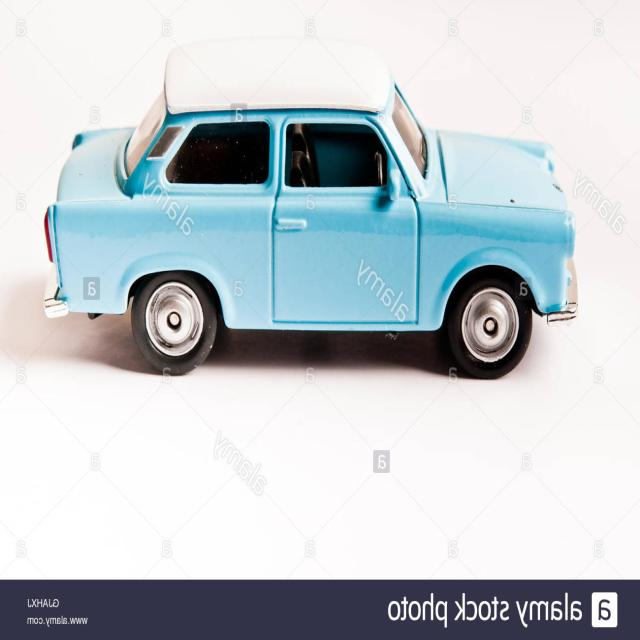Car: (42, 31, 579, 380)
